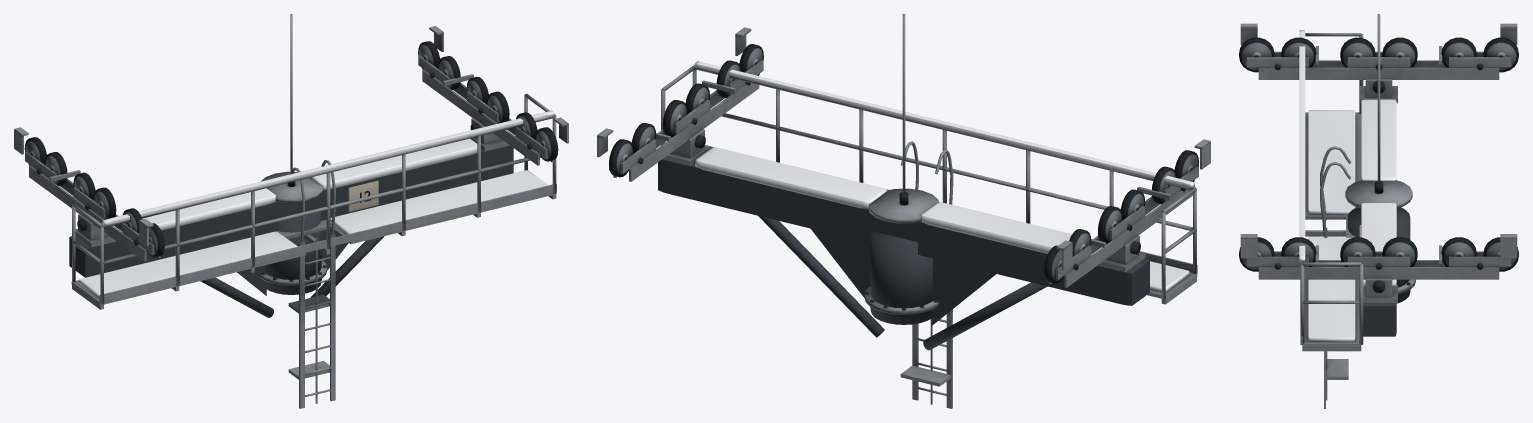
File: tower_head.glb
3 renders of one model, left to right at view 1: azimuth 30°, elevation 25°; view 2: azimuth 150°, elevation 25°; view 3: azimuth 270°, elevation 25°, orthographic. The views are drawn at different scales.
Parts seen in each view (by area): view 1: tower_head, tower_head_snow, tower_head_paint; view 2: tower_head, tower_head_paint, tower_head_snow; view 3: tower_head, tower_head_snow, tower_head_paint.
Part boxes in pixels (x1,y1,x2,y2): tower_head: [14, 14, 568, 408]; tower_head_snow: [78, 110, 554, 298]; tower_head_paint: [69, 145, 513, 317]; tower_head: [597, 14, 1210, 408]; tower_head_paint: [658, 159, 1149, 350]; tower_head_snow: [694, 61, 1194, 292]; tower_head: [1239, 14, 1518, 408]; tower_head_snow: [1299, 30, 1396, 341]; tower_head_paint: [1347, 207, 1410, 336].
Bounding box in the file's own units: 6.5 × 5.05 × 3.32.
4 materials, 1 textured.
